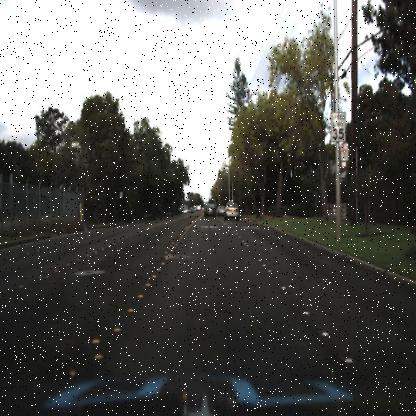car: (222, 199, 242, 222), (201, 199, 217, 222)
